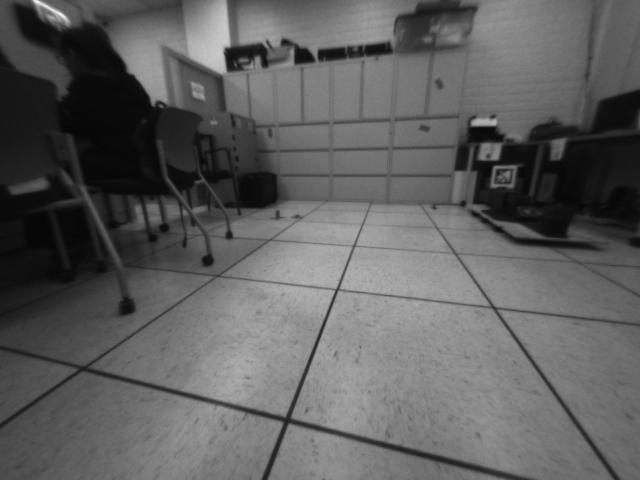X: (267, 208, 288, 220)
